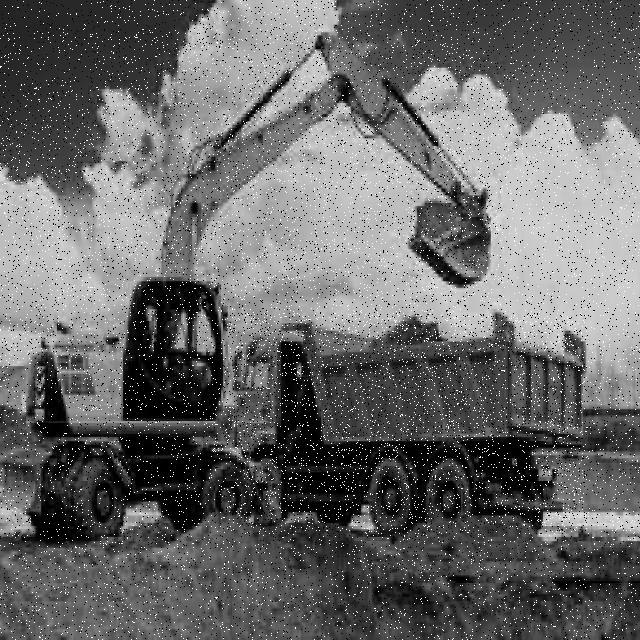Box Truck: (225, 313, 587, 534)
Construction Equipment: (0, 29, 492, 540)
